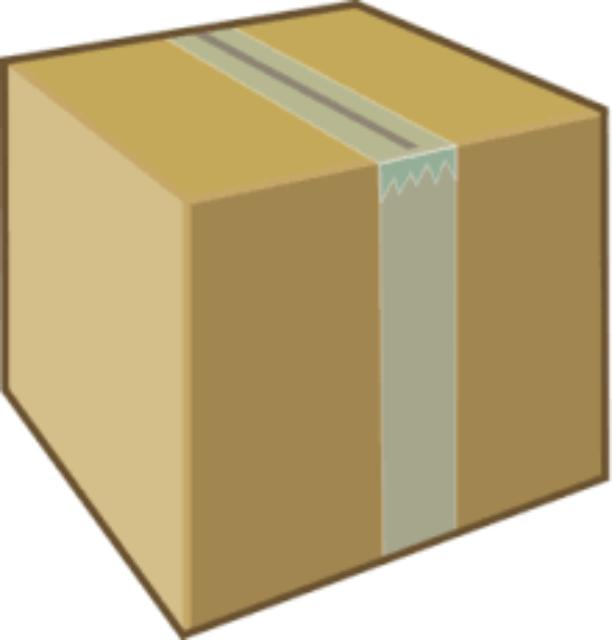cardboard paper: (0, 0, 601, 632)
